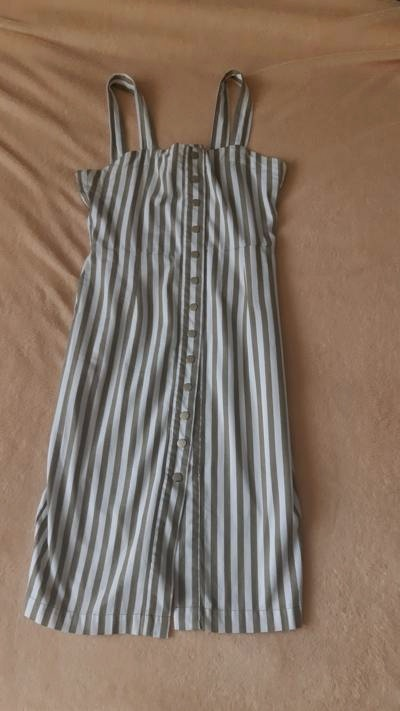Dress: (10, 68, 314, 655)
